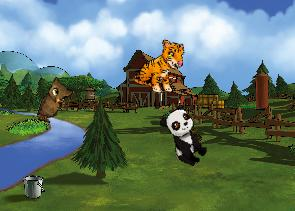owl: (35, 75, 76, 128)
panda: (156, 103, 213, 170)
tiger: (132, 35, 187, 97)
